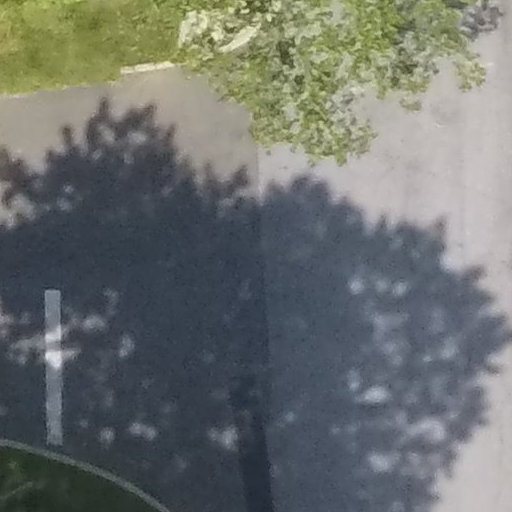street: (1, 70, 512, 503)
